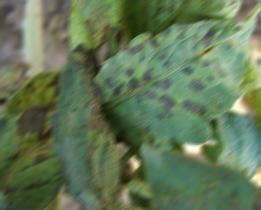Tomato leaf bacterial spot: (81, 0, 261, 131), (52, 46, 142, 210), (105, 0, 249, 69)
